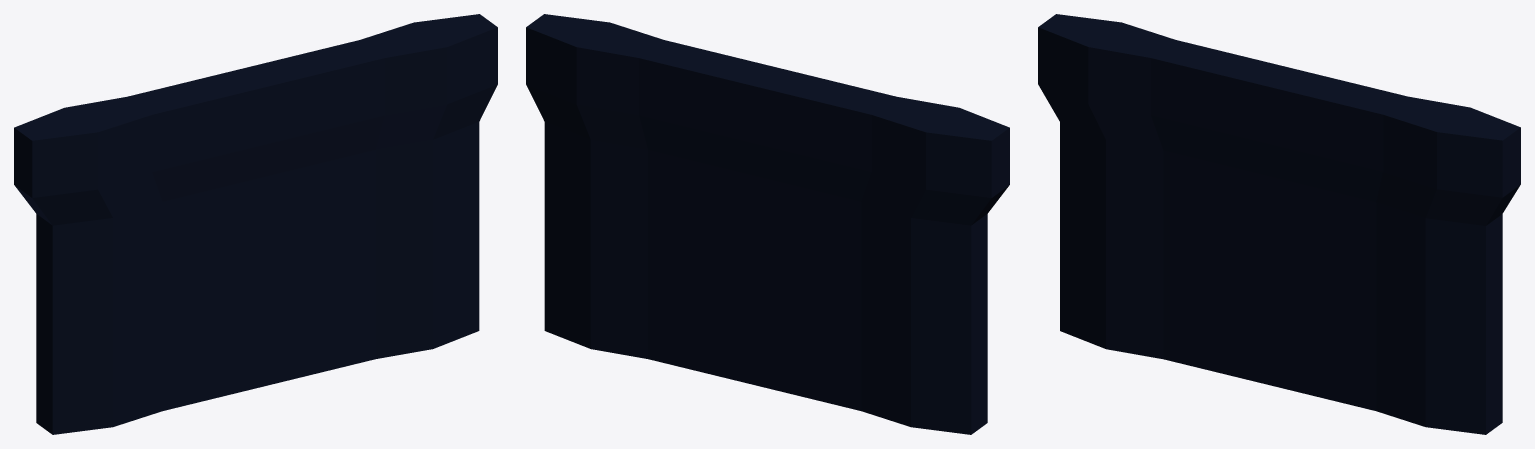
File: wall.fbx
3 views of the same model, side by side, from view 1: azimuth 30°, elevation 25°; view 2: azimuth 150°, elevation 25°; view 3: azimuth 330°, elevation 25° (orthographic).
Visible parts, largest first — view 1: Cube; view 2: Cube; view 3: Cube.
Part boxes in pixels (x1,y1,x2,y2): Cube: (14,14,497,434); Cube: (526,14,1009,434); Cube: (1038,14,1520,434).
Size of the model in its own units: 1746 by 1074 by 218.
